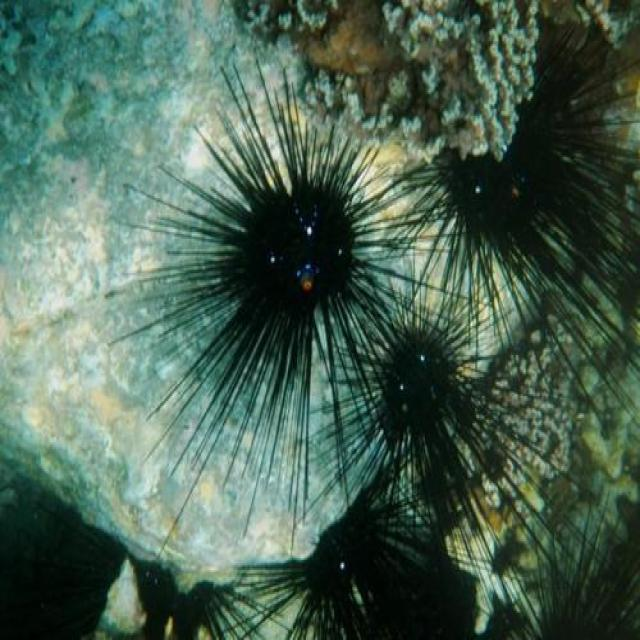Urchin: (128, 95, 378, 466), (386, 280, 514, 520), (398, 165, 630, 294)
